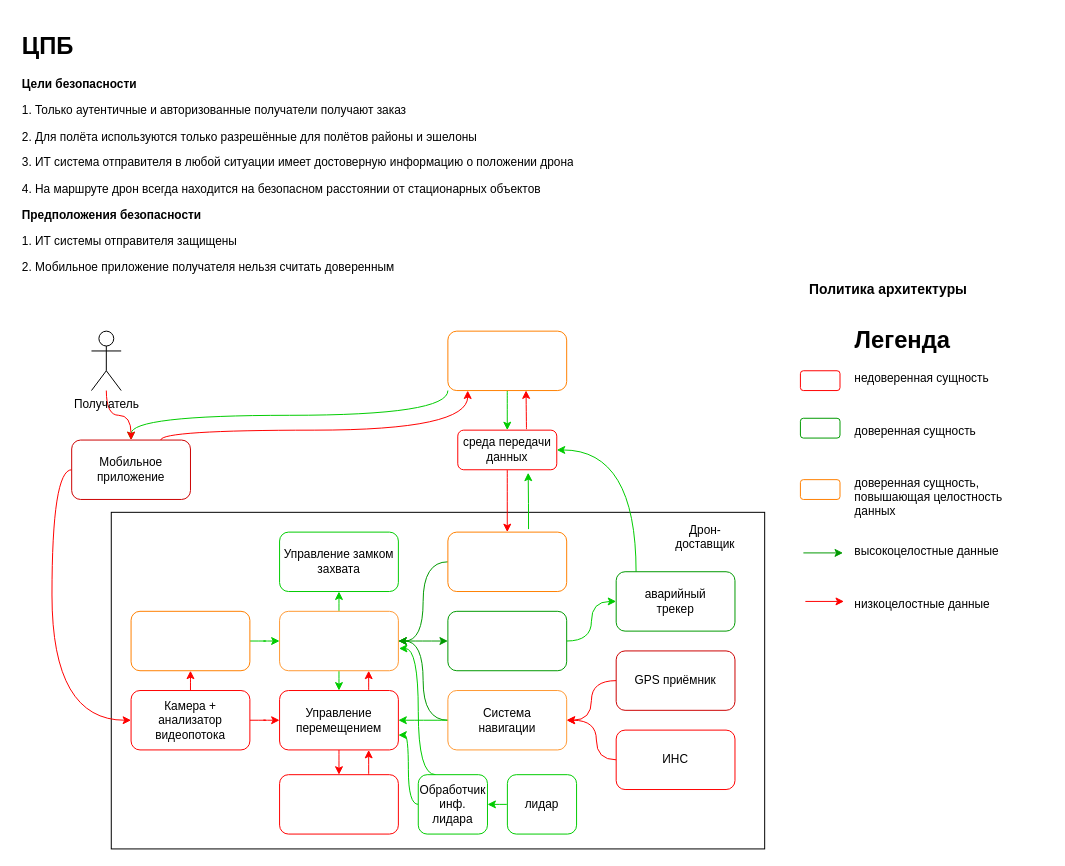
Image size: 1065x866. Some labels were removed from this diagram. The shapes that lost their labels are listed below. From the top down, each one's box as (x1, y1, x2, y2) in pixels, then its label:
(447, 330, 567, 391): ИТ системы отправителя
(447, 531, 567, 592): Обработчик поступающих заказов
(130, 610, 250, 671): Обработчик QR кода
(279, 610, 398, 671): Оркестратор процесса доставки
(447, 610, 567, 671): Управление аварийной посадкой
(279, 774, 398, 834): Управление приводами
